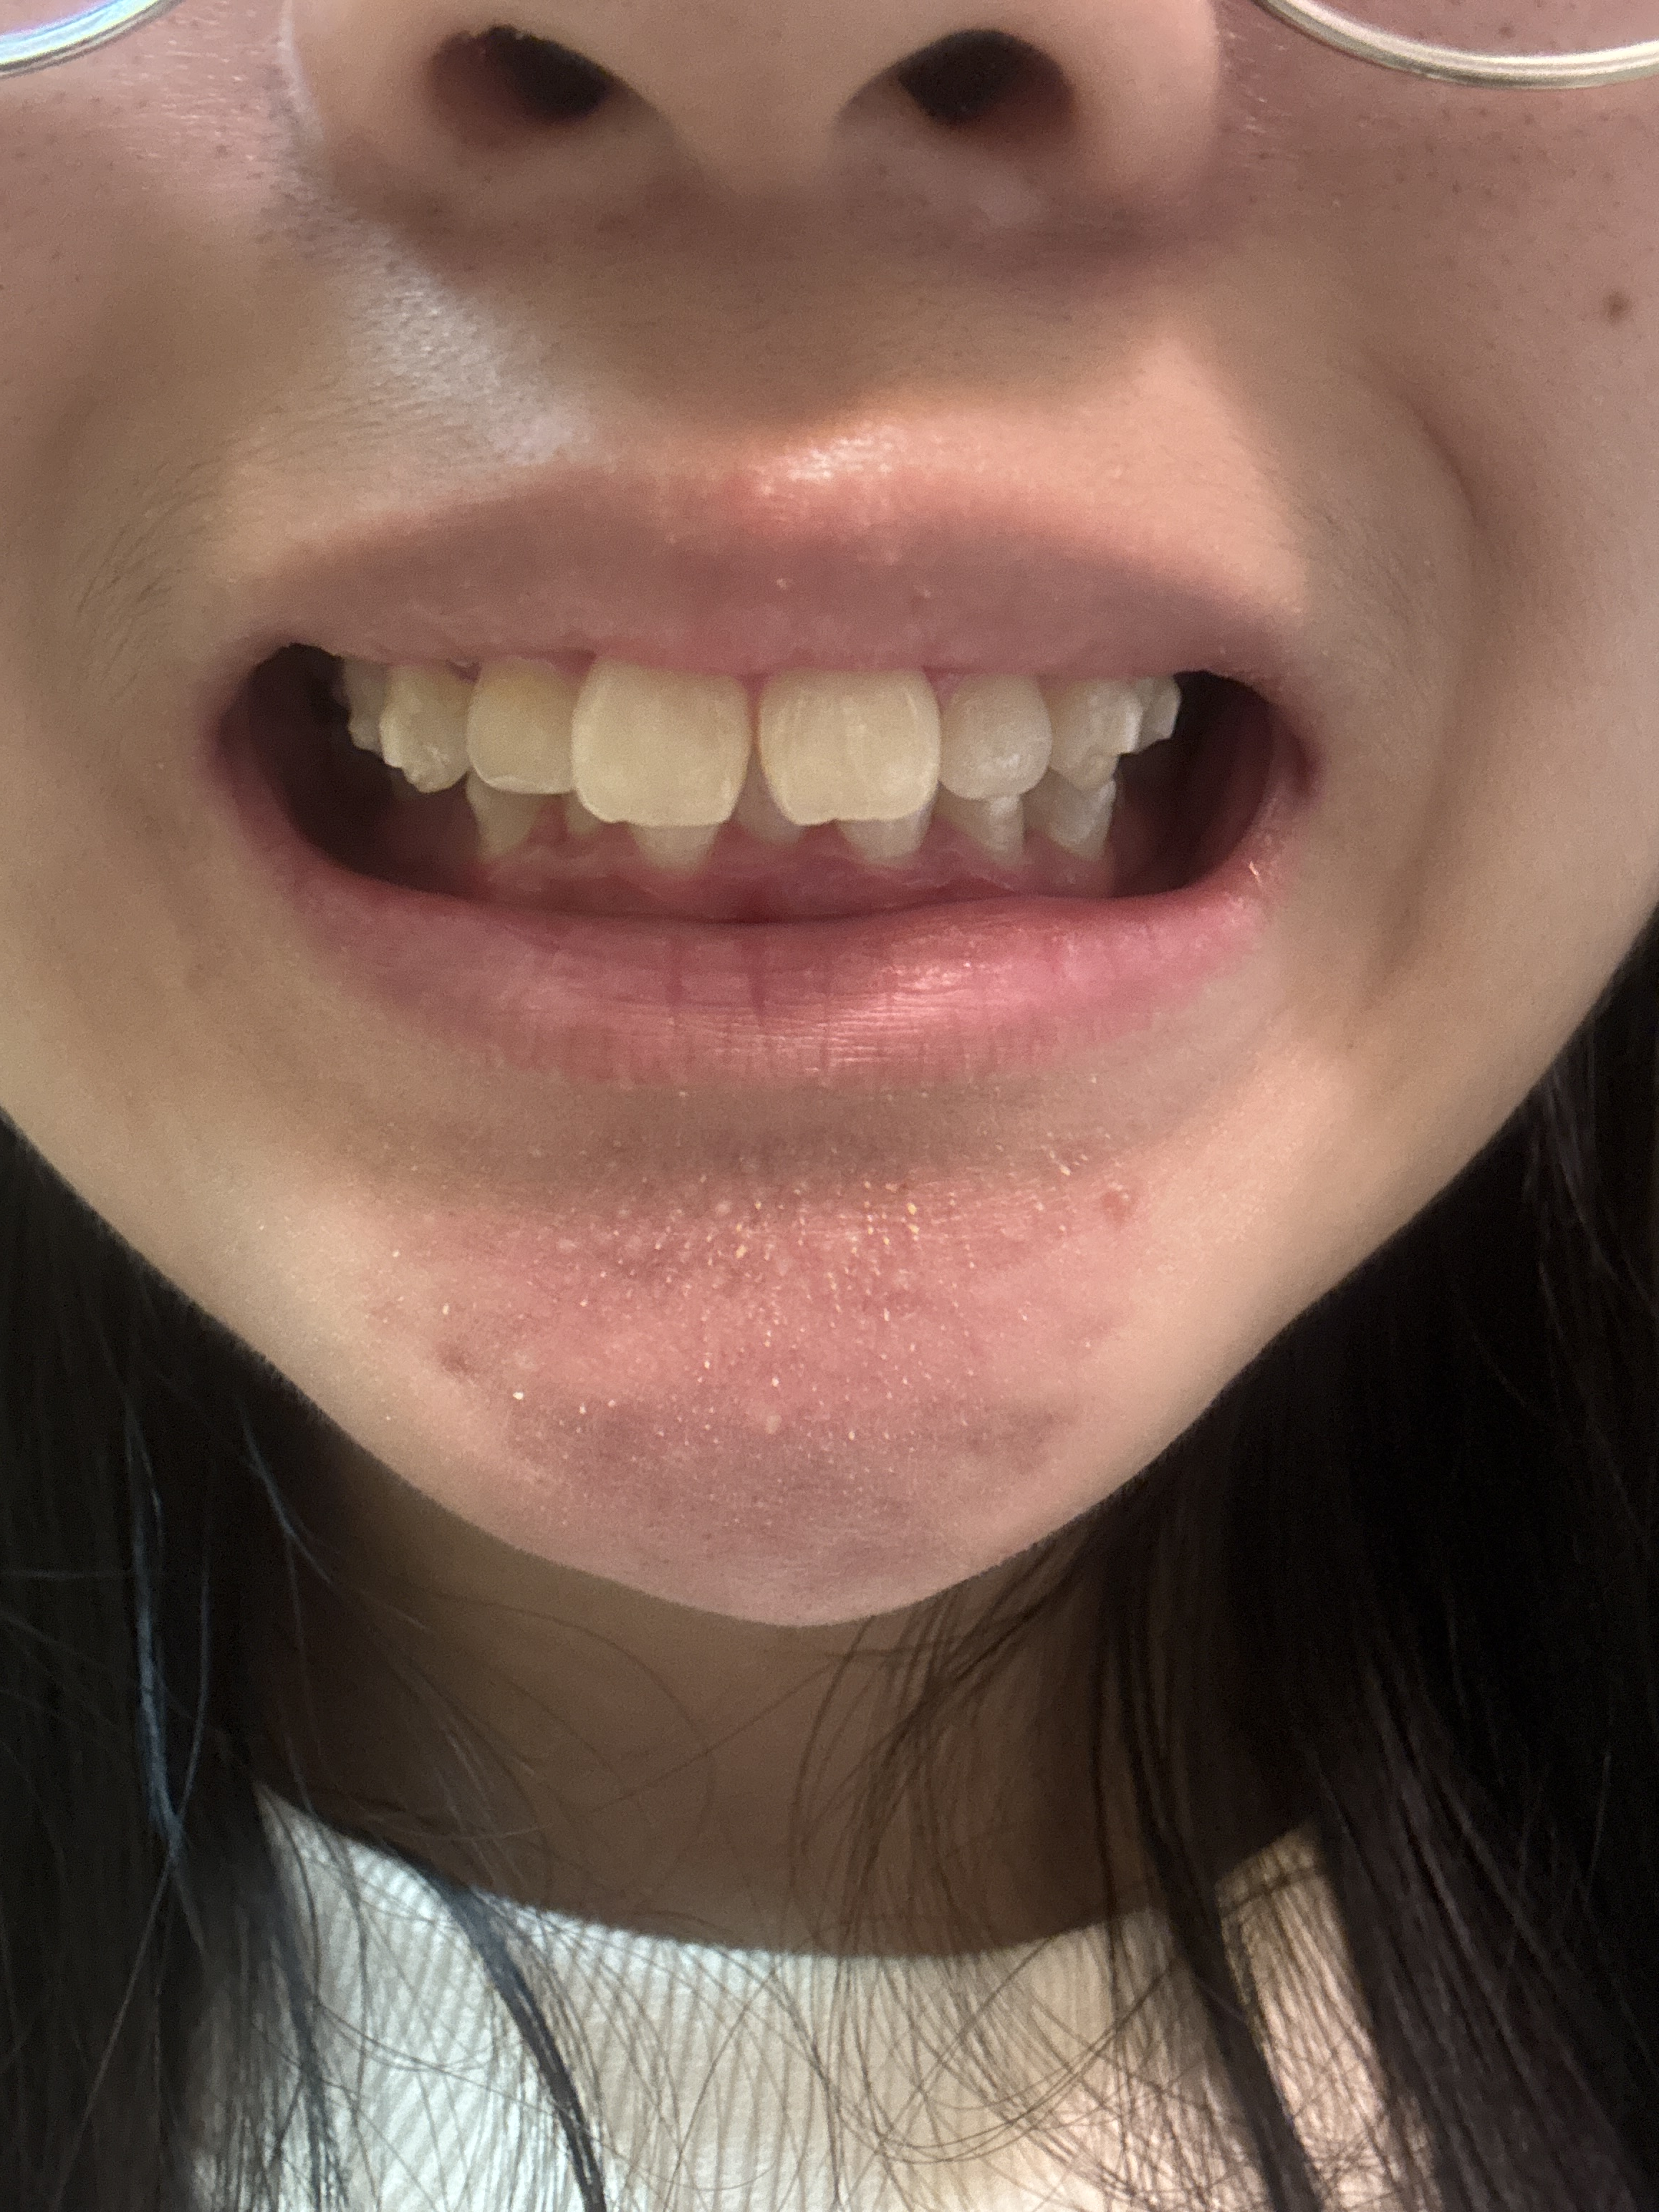teeth: (568, 651, 746, 815), (762, 667, 931, 817), (472, 672, 579, 782), (957, 681, 1033, 792), (385, 671, 455, 782), (1073, 688, 1134, 782)
